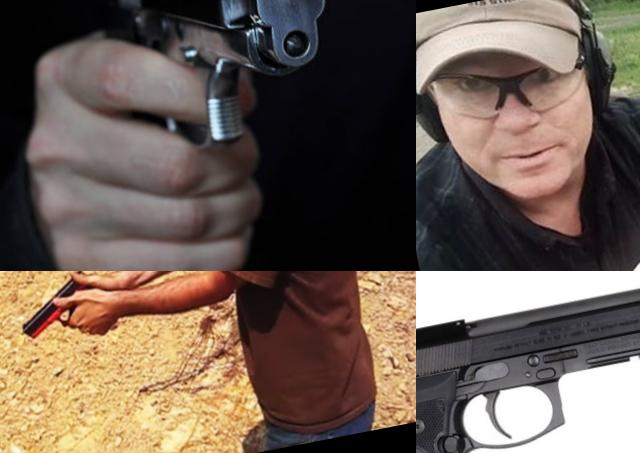handgun: (63, 0, 364, 183), (416, 271, 640, 453), (10, 271, 103, 341)
